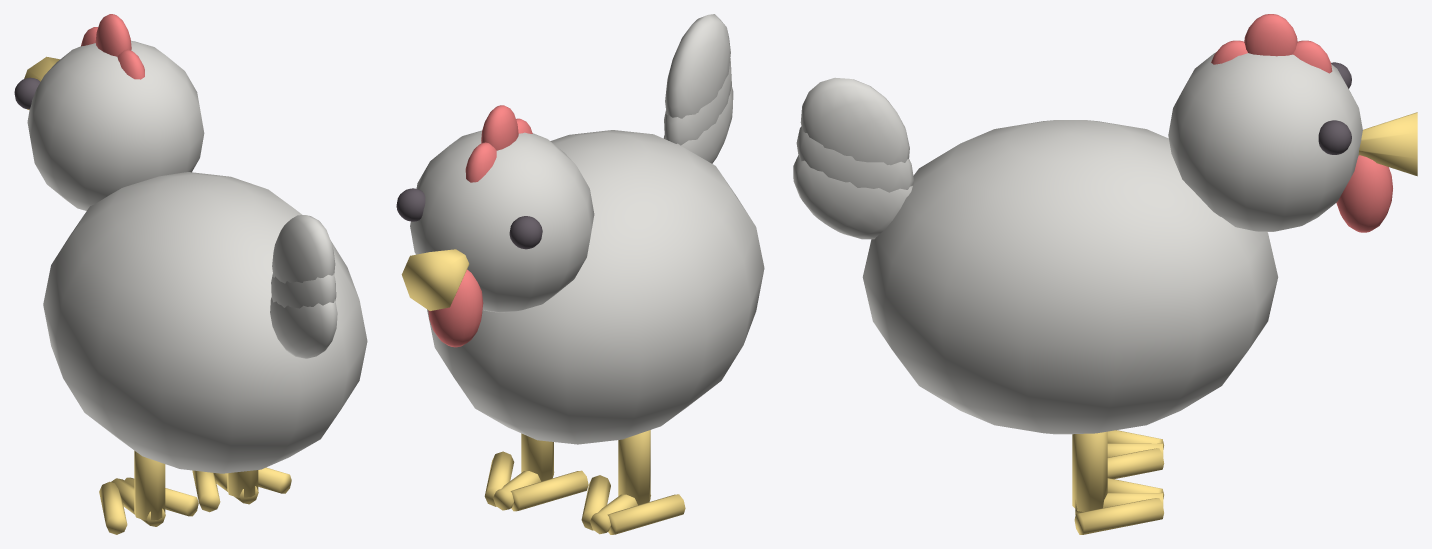
The model's file is VAnimal_Chicken.fbx.
3 views of the same model, side by side, from view 1: azimuth 30°, elevation 25°; view 2: azimuth 150°, elevation 25°; view 3: azimuth 270°, elevation 25° (orthographic). The views are drawn at different scales.
Parts seen in each view (by area): view 1: VAnimal_Chicken; view 2: VAnimal_Chicken; view 3: VAnimal_Chicken.
Boxes of the visible parts, left/top/right/bottom form: VAnimal_Chicken: left=14, top=14, right=367, bottom=534; VAnimal_Chicken: left=396, top=14, right=764, bottom=534; VAnimal_Chicken: left=793, top=14, right=1417, bottom=534.
Size of the model in its own units: 0.3315 by 0.5364 by 0.6384.
